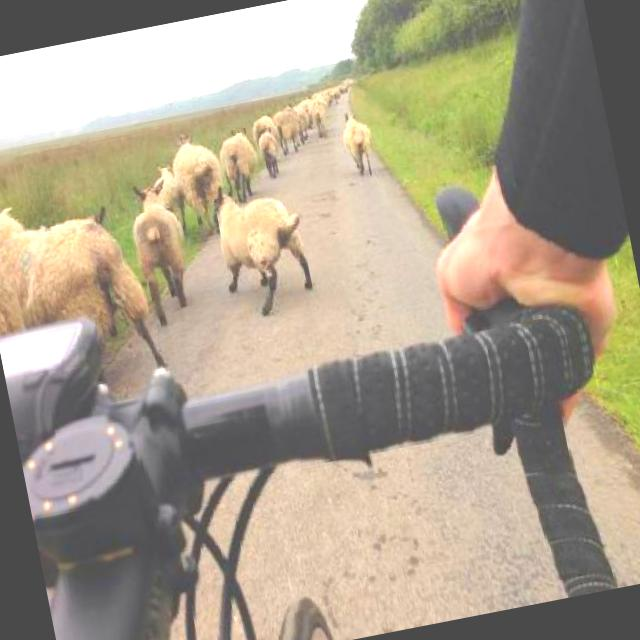Person: (379, 0, 640, 446)
